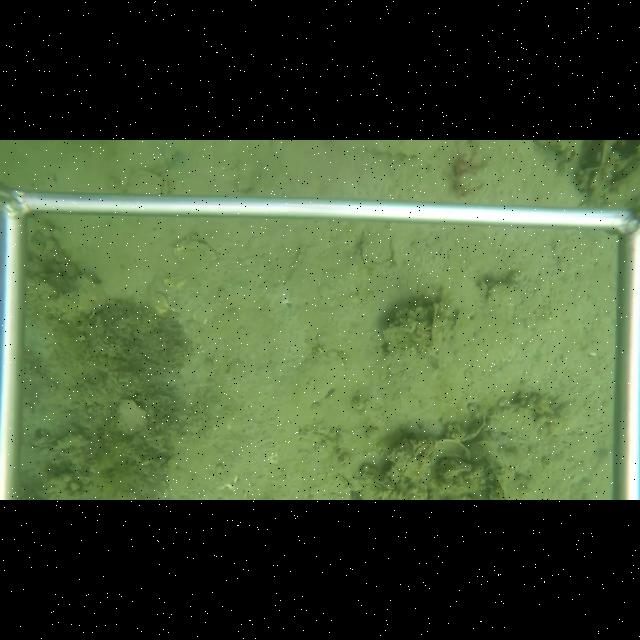Oyster-Closed: (293, 349, 345, 409), (108, 144, 169, 189), (486, 405, 544, 441), (360, 226, 398, 267), (112, 396, 150, 435), (127, 169, 175, 196), (360, 470, 395, 493), (438, 464, 474, 481)
Oyster-Open: (412, 438, 434, 459)
